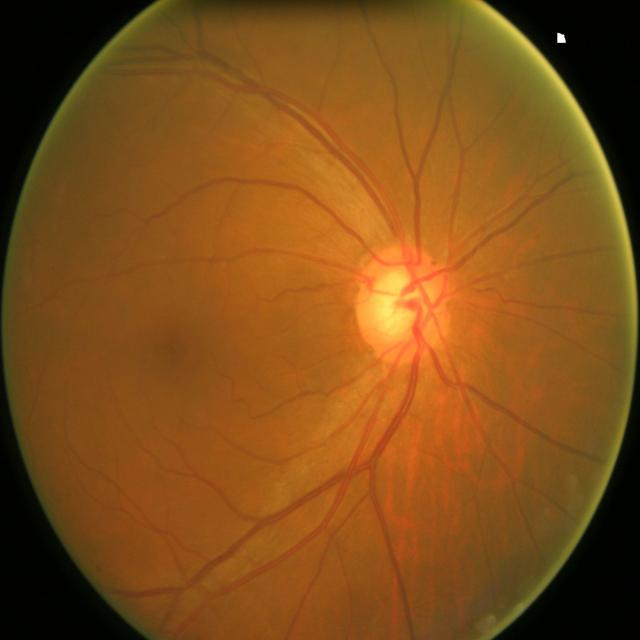OC: (372, 267, 428, 336)
OD: (356, 244, 453, 361)
